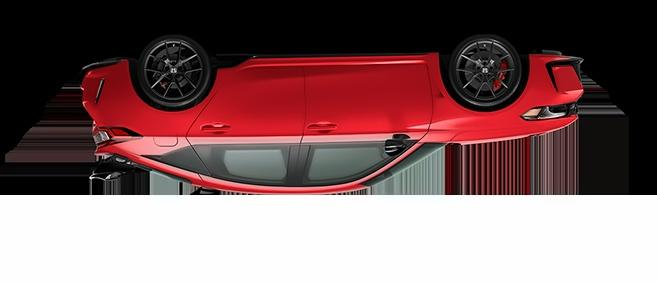Car hood: (444, 122, 572, 153)
Fender - -F-L-: (445, 93, 526, 123)
Fender - -R-L-: (131, 94, 218, 122)
Front bumper: (517, 45, 587, 107)
Headlight - -L-: (520, 98, 581, 123)
Passenger-s door - -F-L-: (290, 42, 436, 195)
Passenger-s door - -R-L-: (185, 43, 309, 195)
Rear bumper: (74, 56, 140, 123)
Rear light - -L-: (88, 126, 145, 154)
Side bumper - -L-: (210, 50, 451, 87)
Side mirror - -L-: (385, 132, 410, 158)
